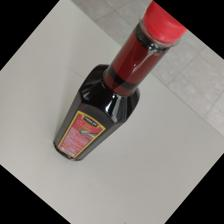Namngu: (51, 1, 190, 164)
